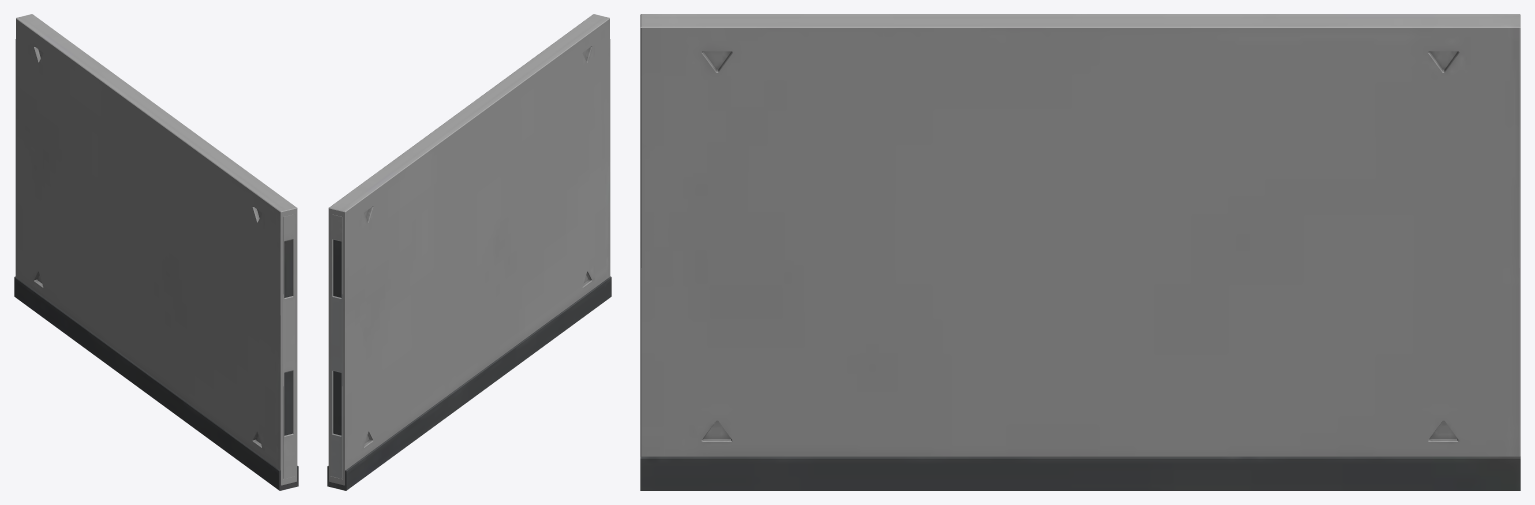
Rendered from SM_WallDiagonal_SF_6d24e8.glb.
The picture shows the model from 3 angles, left to right: view 1: azimuth 30°, elevation 25°; view 2: azimuth 150°, elevation 25°; view 3: azimuth 270°, elevation 25°; orthographic projection. The views are drawn at different scales.
Bounding box in the file's own units: 0.24 × 3.29 × 5.67.
1 material, 1 textured.
